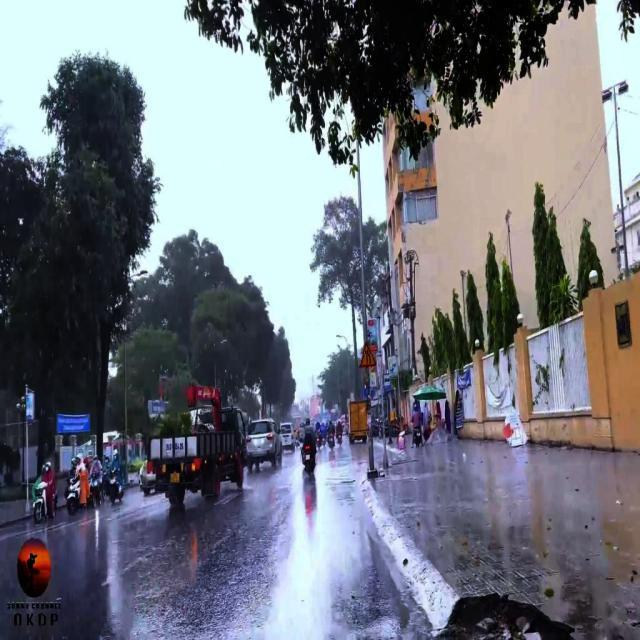203-duong-bi-hep: (358, 344, 378, 368)
